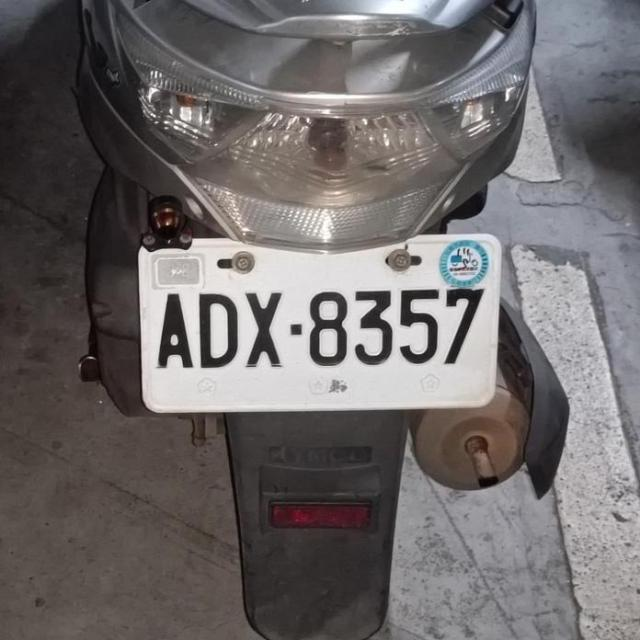W: (130, 221, 507, 422)
